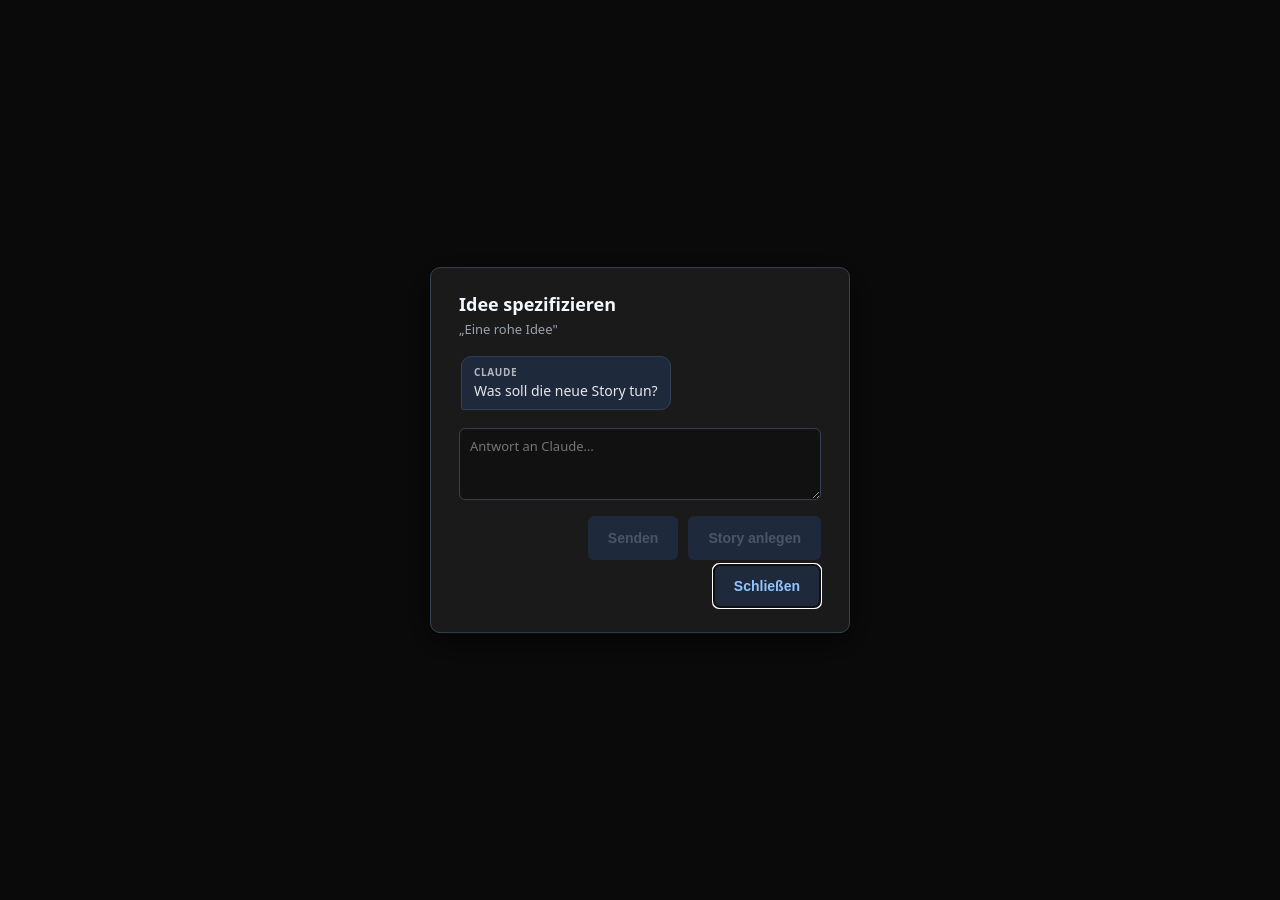
Test: IdeaSpecifyChatModal — AC1: Overlay-Grundstruktur › owner and claude bubbles are distinguishable via data-role AND a textual label (not color alone)
Check: the element with test id "idea-specify-message-list" is shown, box [461,356,671,410]
In the text box with test id "idea-specify-input": (640, 464) [459,428,821,500], type "Es soll X tun."
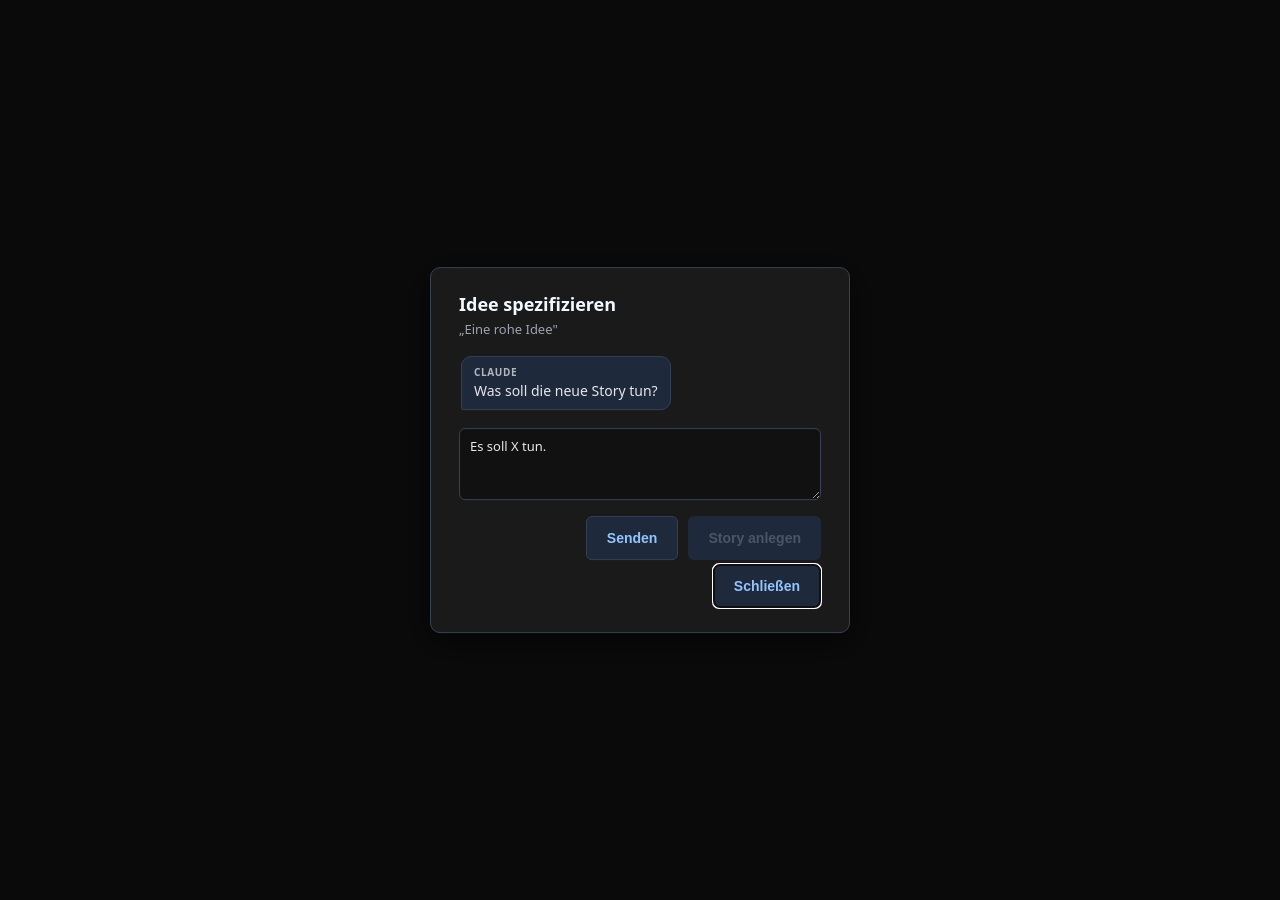
Click the button with test id "idea-specify-send-btn": (632, 538) [586,516,678,560]
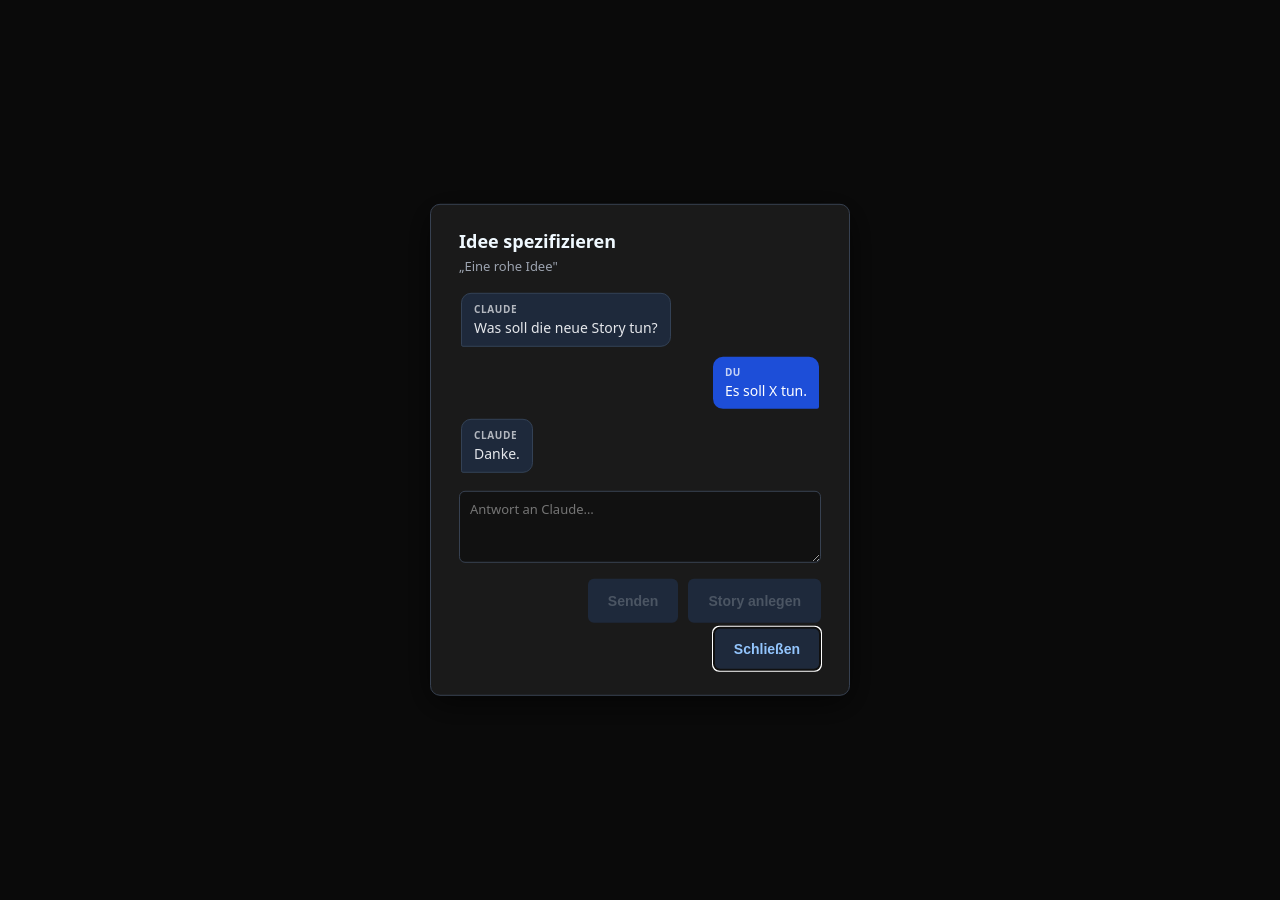
Check: the element with test id "idea-specify-message" shows "Claude", box [474,301,517,315]
Check: the number of elements with test id "idea-specify-message" is 3, box [461,292,671,347]; [713,357,819,409]; [461,419,533,473]
Check: the element with test id "idea-specify-message" shows "Du", box [725,365,741,379]
